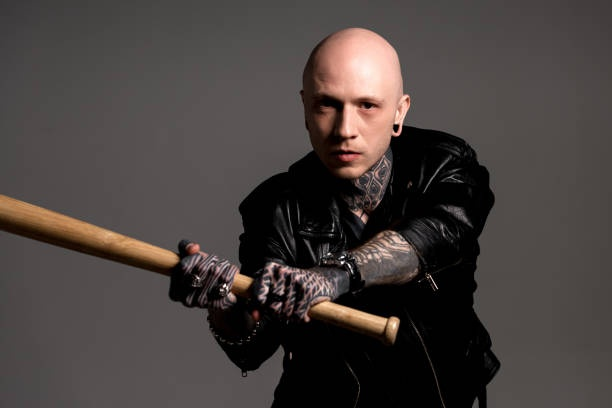bita: (1, 190, 408, 336)
